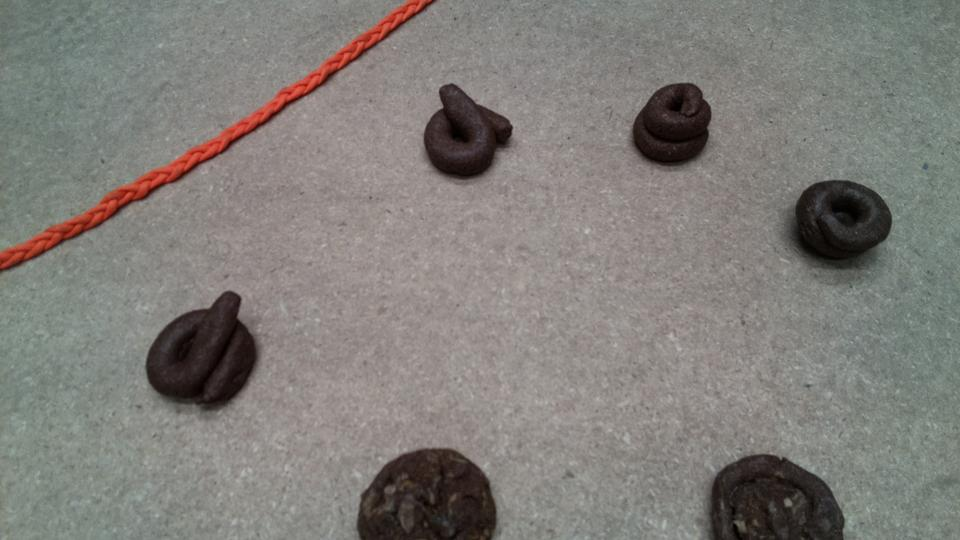poop: (144, 289, 263, 411), (352, 446, 501, 540), (705, 449, 849, 540), (421, 80, 517, 181), (792, 176, 896, 267), (630, 79, 716, 170)
rope: (1, 1, 423, 261)
